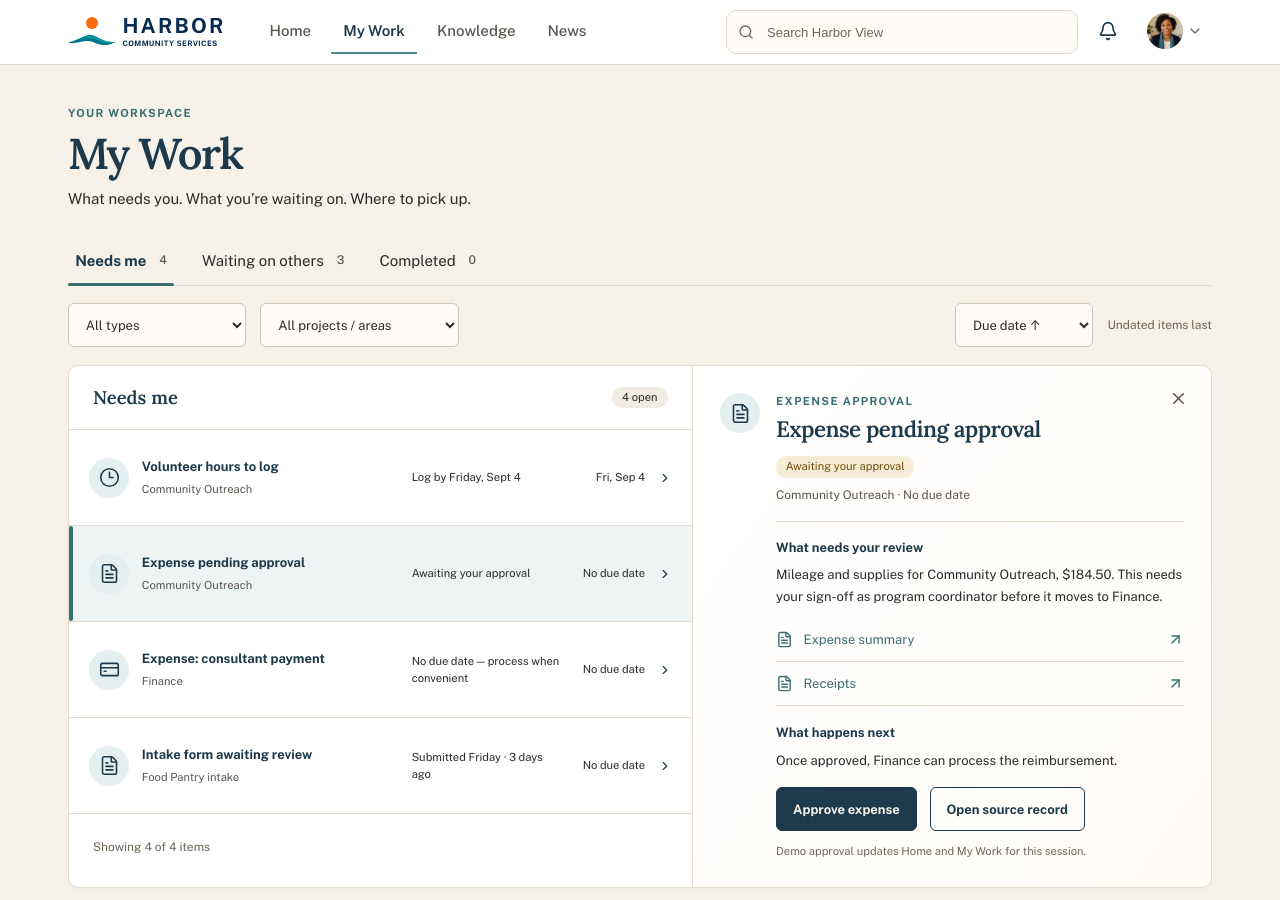
it: My Work › shows an honest empty Completed tab before any work is finished
The width and height of the screenshot is (1280, 900).
Click the tab "Completed 0": (428, 262) [372, 239, 483, 285]
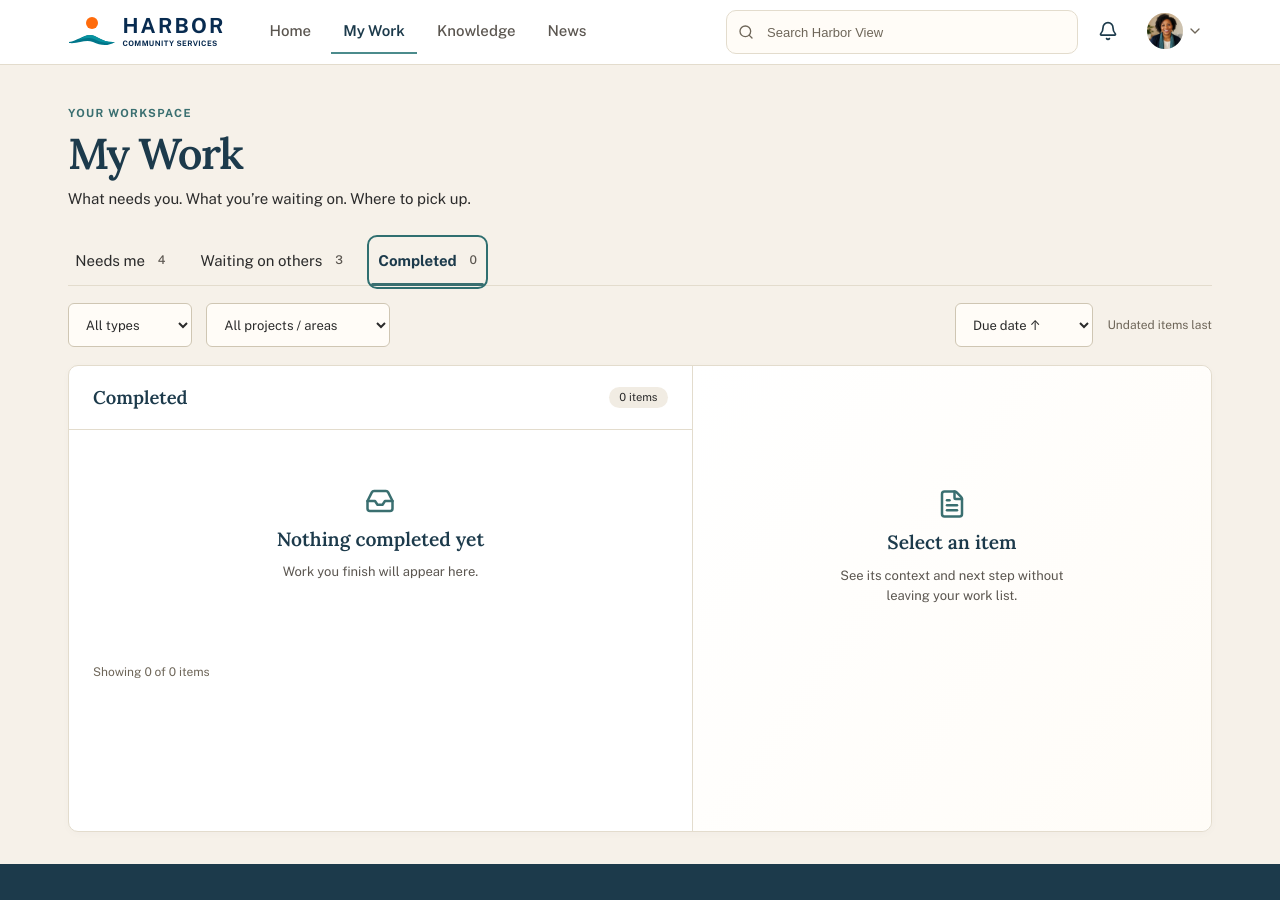
Now the heading "Nothing completed yet" is shown, box [277, 527, 484, 551]
